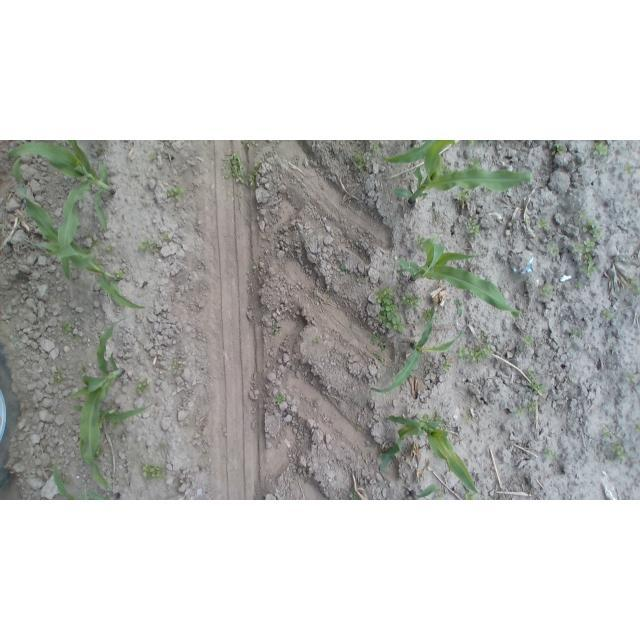Maize: (12, 157, 147, 312), (4, 143, 120, 280), (67, 317, 141, 491), (392, 235, 522, 320), (367, 302, 471, 396), (389, 140, 536, 204), (376, 411, 482, 493), (70, 399, 156, 473), (50, 452, 125, 500), (376, 140, 439, 164), (407, 485, 438, 500)
Weeds: (373, 287, 405, 334), (221, 152, 261, 188), (456, 345, 492, 364), (582, 220, 607, 240), (141, 463, 165, 481), (580, 252, 598, 276), (353, 151, 372, 173), (401, 293, 423, 310), (165, 185, 187, 201), (574, 239, 597, 254), (138, 238, 159, 254), (422, 305, 439, 323), (612, 444, 628, 463), (371, 333, 389, 349), (529, 379, 547, 395), (537, 282, 555, 298), (591, 142, 609, 157), (468, 218, 481, 238), (542, 445, 558, 460), (136, 377, 149, 395), (452, 299, 464, 318), (84, 233, 99, 248), (627, 275, 638, 295), (51, 368, 66, 382), (454, 190, 470, 203), (466, 158, 482, 171), (171, 360, 183, 376), (537, 217, 550, 231), (239, 141, 259, 150), (97, 141, 108, 157), (547, 244, 560, 257), (601, 308, 614, 321), (551, 143, 565, 155), (61, 322, 75, 334), (600, 426, 614, 438), (429, 412, 444, 423), (275, 393, 287, 406), (374, 351, 385, 365), (414, 235, 425, 249), (337, 264, 349, 276), (114, 269, 126, 281), (441, 360, 453, 372), (435, 485, 445, 499), (577, 208, 588, 220), (442, 163, 454, 174), (60, 476, 73, 486), (372, 141, 381, 155), (463, 491, 477, 500), (623, 164, 634, 175), (147, 152, 158, 163), (524, 337, 535, 348), (157, 441, 169, 451), (350, 491, 363, 500), (309, 286, 318, 299), (529, 401, 538, 414), (570, 326, 579, 338), (322, 286, 334, 295), (625, 373, 635, 383), (271, 325, 281, 335), (78, 365, 87, 376), (631, 422, 640, 433), (528, 370, 539, 379), (463, 414, 472, 425), (202, 449, 211, 459), (395, 267, 405, 276), (516, 406, 526, 415), (161, 231, 170, 241), (73, 334, 84, 342), (377, 447, 384, 459), (312, 336, 321, 345), (480, 332, 489, 341), (95, 446, 103, 456), (104, 244, 114, 252), (466, 140, 479, 146), (252, 265, 260, 274), (523, 216, 531, 225), (356, 274, 364, 283), (575, 283, 582, 290), (357, 426, 363, 432)
